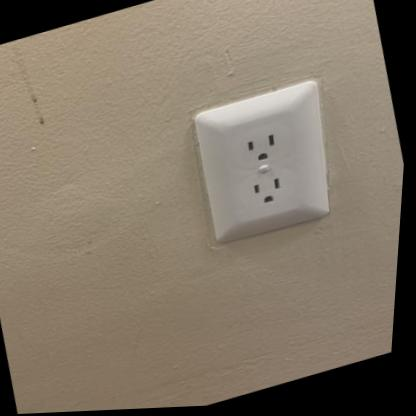OUTLET: (179, 76, 352, 253)
